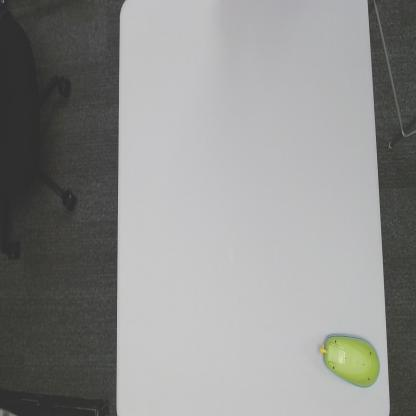Boat: (318, 324, 384, 399)
